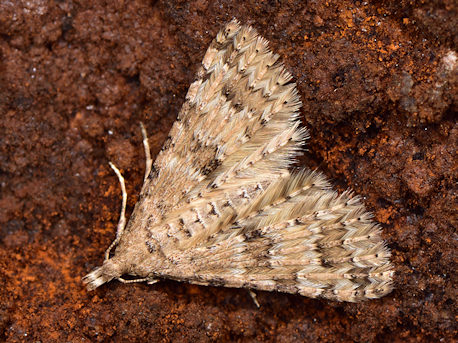Alucitidae: (72, 20, 402, 302)
moth: (70, 18, 400, 300)
